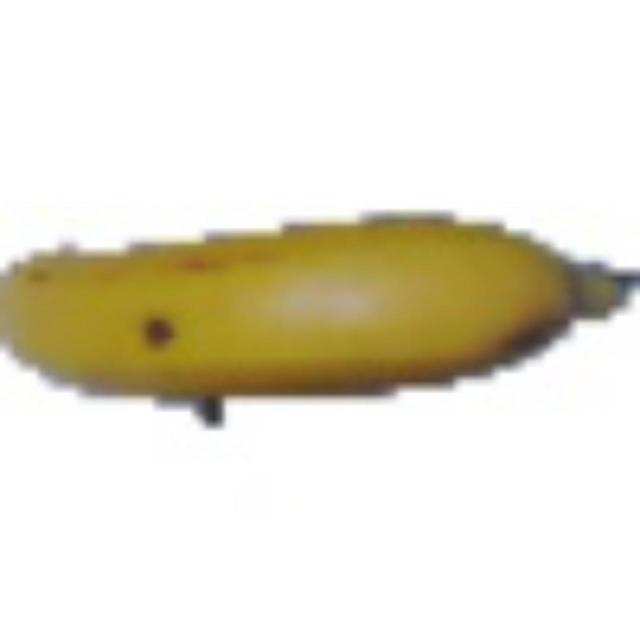banana: (2, 206, 640, 418)
